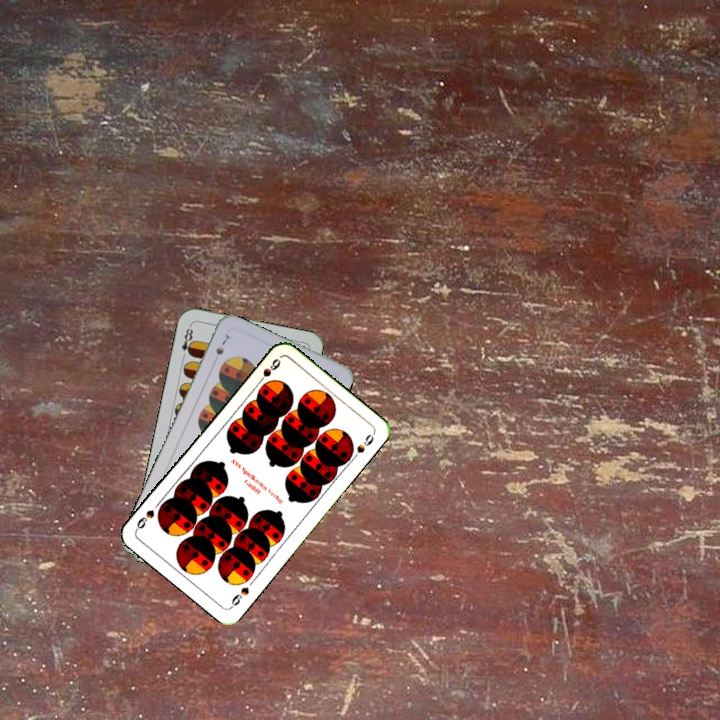E8: (177, 321, 196, 361)
S7: (212, 330, 232, 358)
S9: (253, 354, 283, 388), (227, 583, 252, 610)
